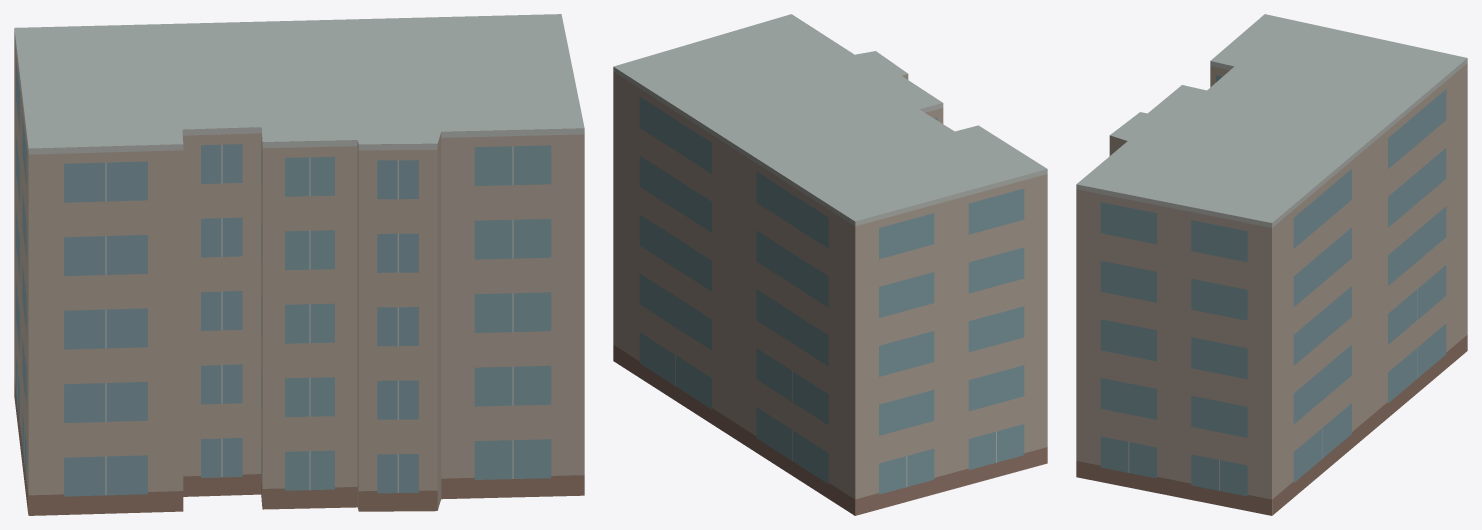
The model's file is survey-upis-32933180.glb.
The picture shows the model from 3 angles, left to right: view 1: azimuth 30°, elevation 25°; view 2: azimuth 150°, elevation 25°; view 3: azimuth 270°, elevation 25°; orthographic projection. The views are drawn at different scales.
Parts seen in each view (by area): view 1: survey-upis-32933180.tmp; view 2: survey-upis-32933180.tmp; view 3: survey-upis-32933180.tmp.
Part boxes in pixels (x1=…): survey-upis-32933180.tmp: x1=14, y1=14, x2=584, y2=515; survey-upis-32933180.tmp: x1=613, y1=14, x2=1047, y2=515; survey-upis-32933180.tmp: x1=1076, y1=14, x2=1467, y2=515.
Size of the model in its own units: 22.37 by 14.6 by 17.7.
